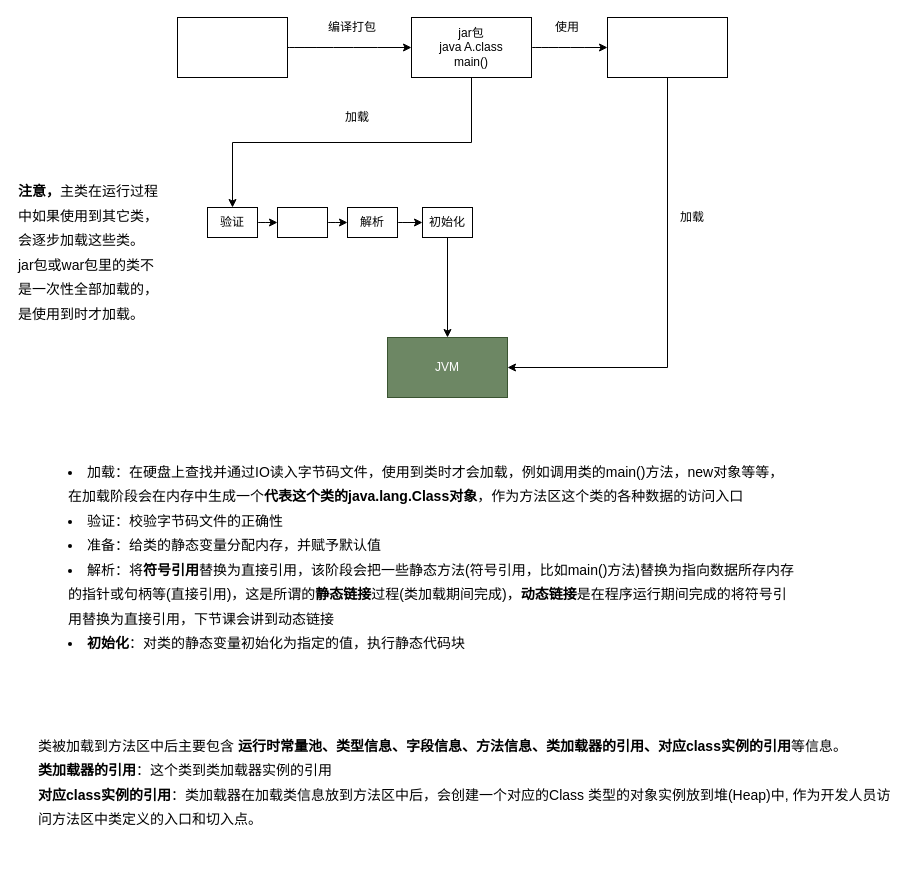
The diagram is 914 pixels wide and 885 high, and some of its shapes have lost their labels. Here are the shapes that lost their labels. From the top down, the box of each, then its label:
(176, 16, 288, 78): A.java B.class
(606, 16, 728, 78): B.class
(276, 206, 328, 238): 准备
